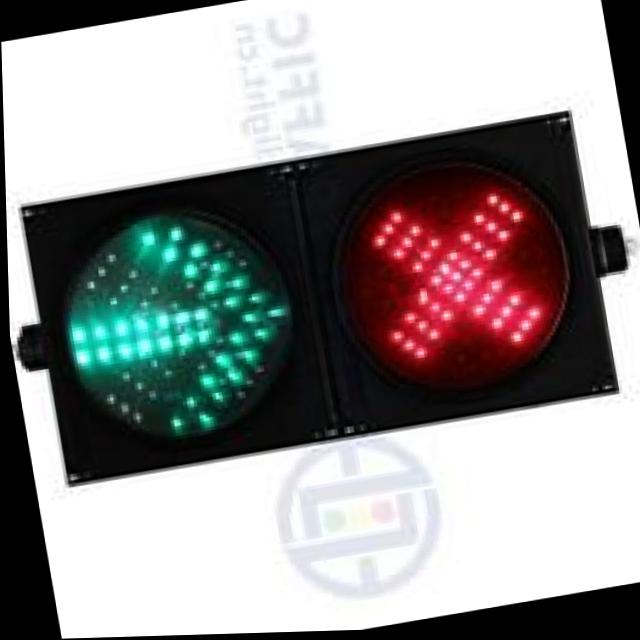green_light: (3, 142, 345, 526)
red_light: (313, 54, 596, 469)
